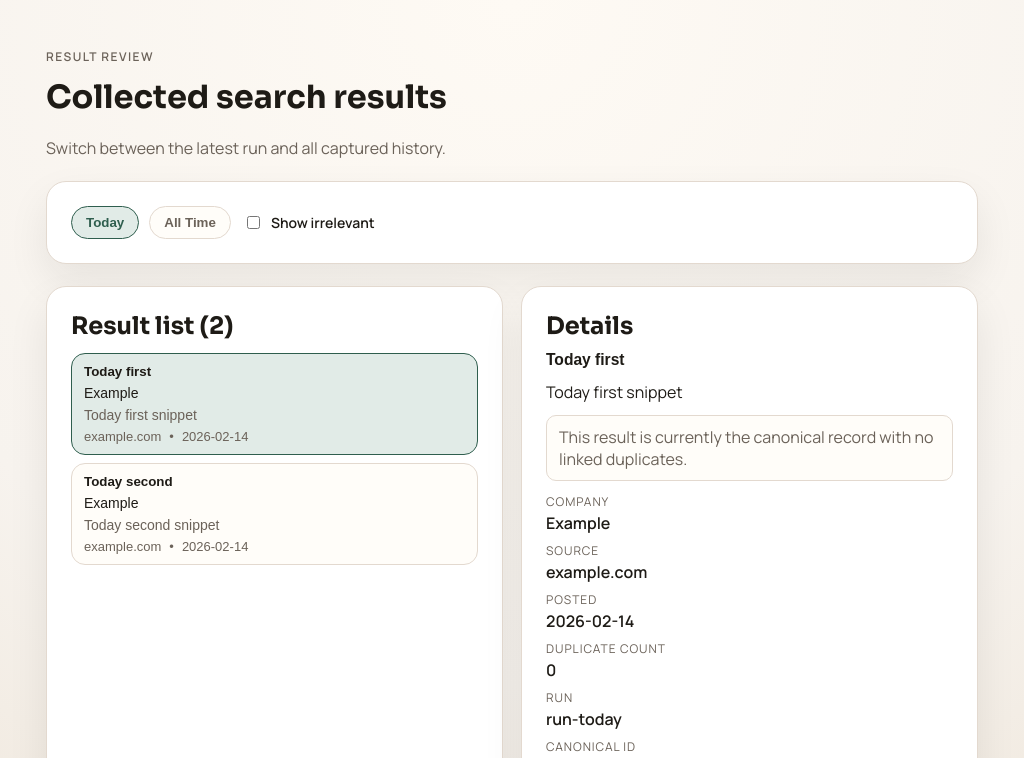
Test: ResultsPage › falls back to first result when previous selection disappears in next query result set
Click the button "Today second" at (128, 482), box left=72, top=464, right=477, bottom=564
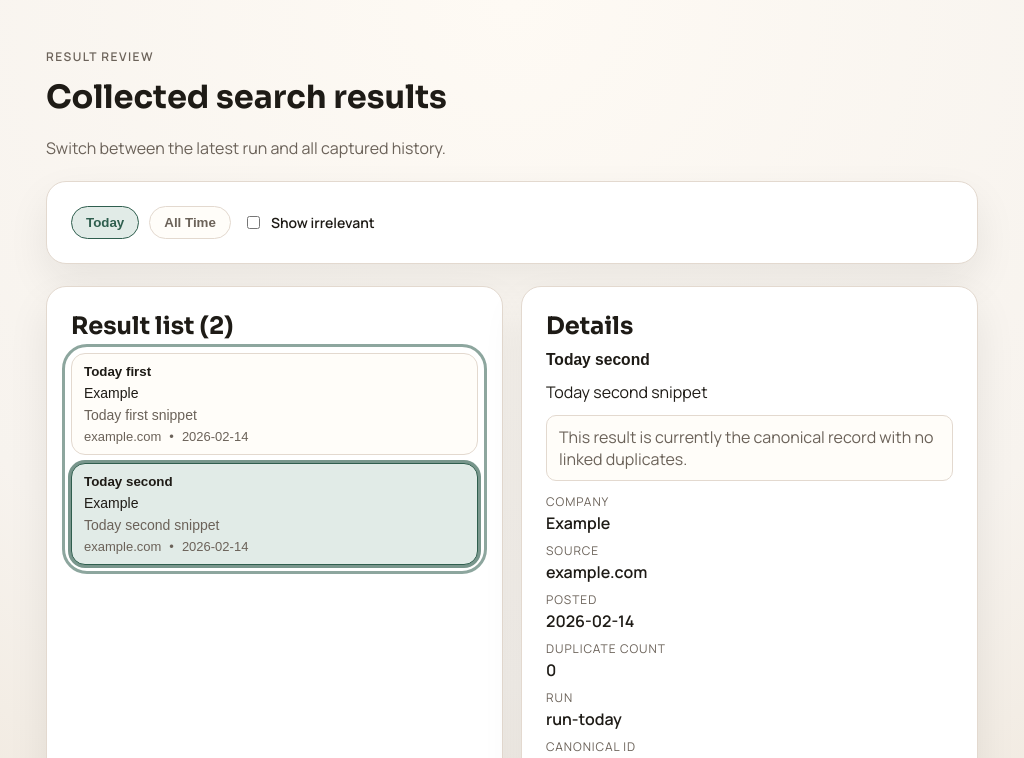
Click the tab "All Time" at (190, 222), box left=149, top=206, right=231, bottom=239
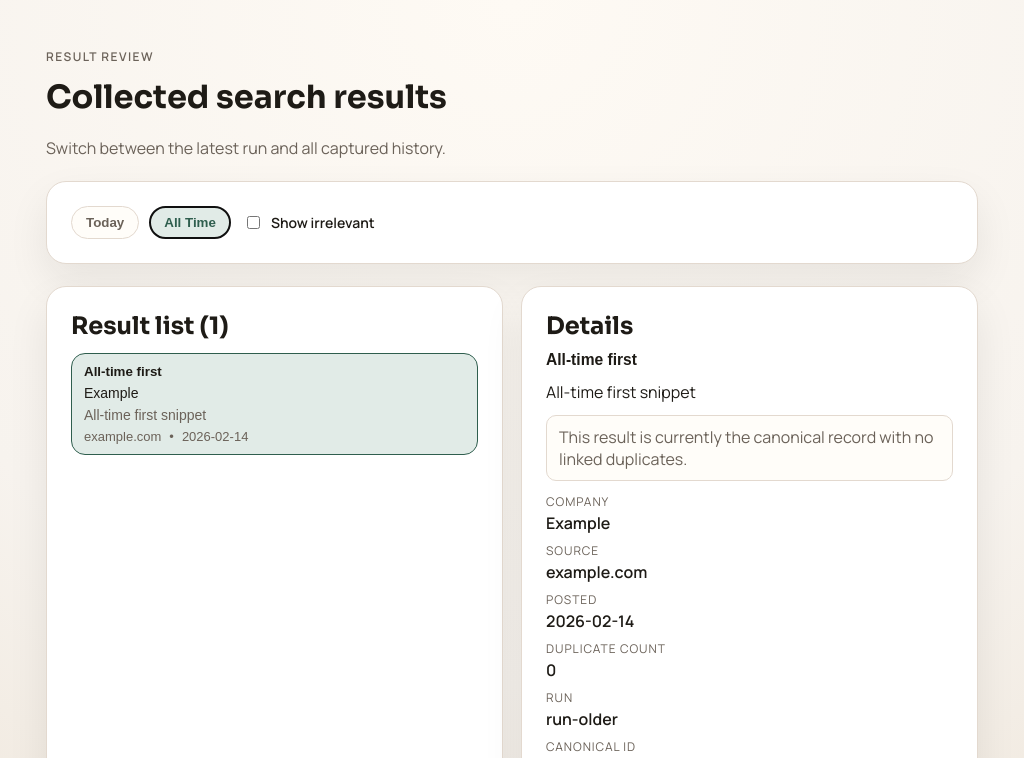
Result: the heading "All-time first" is shown at left=546, top=351, right=637, bottom=369
